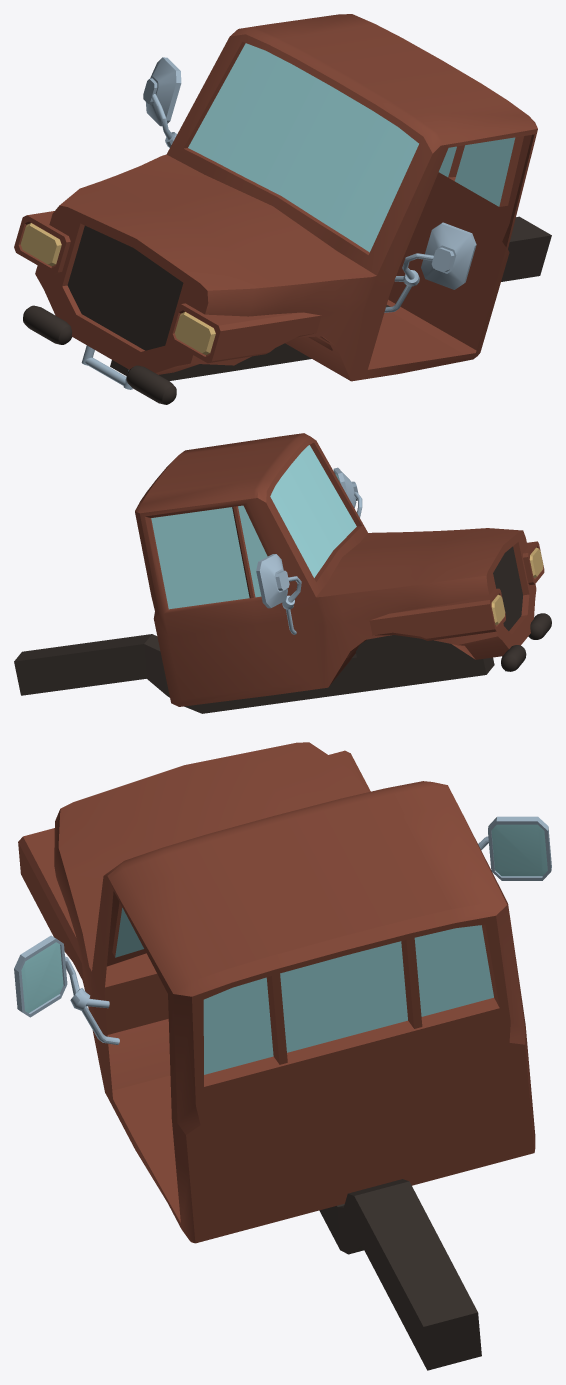
The model's file is TruckHead.fbx.
3 views of the same model, one above another, from view 1: azimuth 30°, elevation 25°; view 2: azimuth 150°, elevation 25°; view 3: azimuth 270°, elevation 25° (orthographic). The views are drawn at different scales.
Visible parts, largest first — view 1: TruckBody.001; view 2: TruckBody.001; view 3: TruckBody.001.
Boxes of the visible parts, box(x1,y1,x2,y2) form: TruckBody.001: box(14, 14, 551, 404); TruckBody.001: box(14, 433, 551, 713); TruckBody.001: box(14, 742, 551, 1370).
Bounding box in the file's own units: 515 × 325 × 272.
